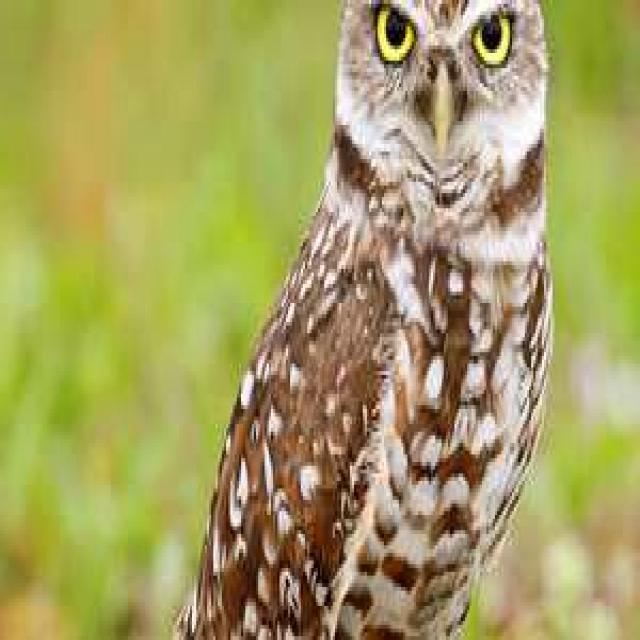owl: (177, 0, 553, 636)
